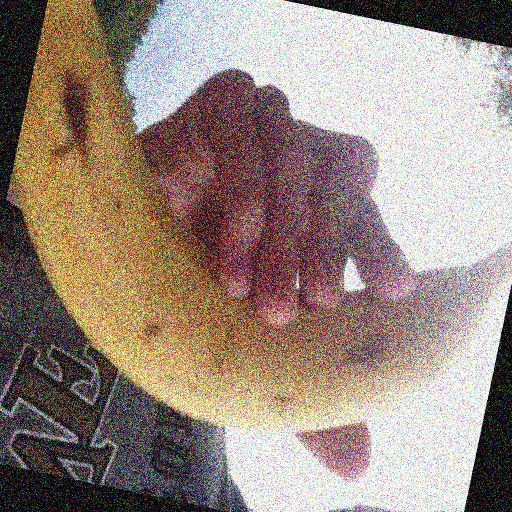fruit: (491, 157, 512, 377)
